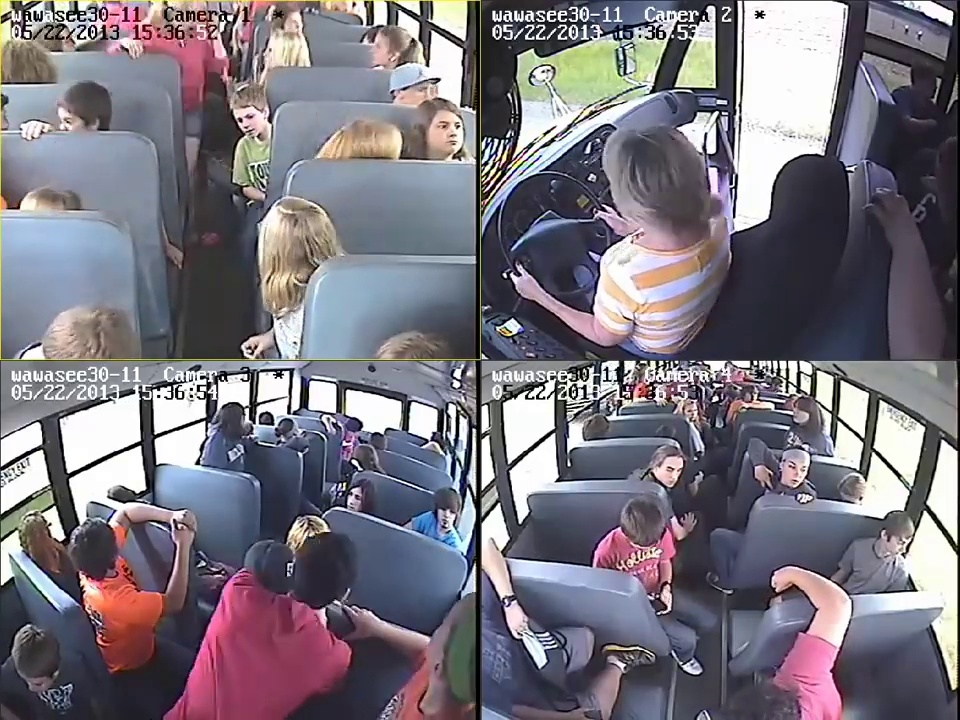face: (426, 115, 466, 152), (233, 99, 263, 140), (654, 454, 683, 488), (57, 104, 94, 130), (781, 458, 810, 487), (890, 531, 911, 567), (343, 487, 370, 512), (21, 668, 48, 693), (433, 505, 460, 527), (790, 401, 812, 426), (680, 402, 701, 420), (744, 387, 759, 401)
